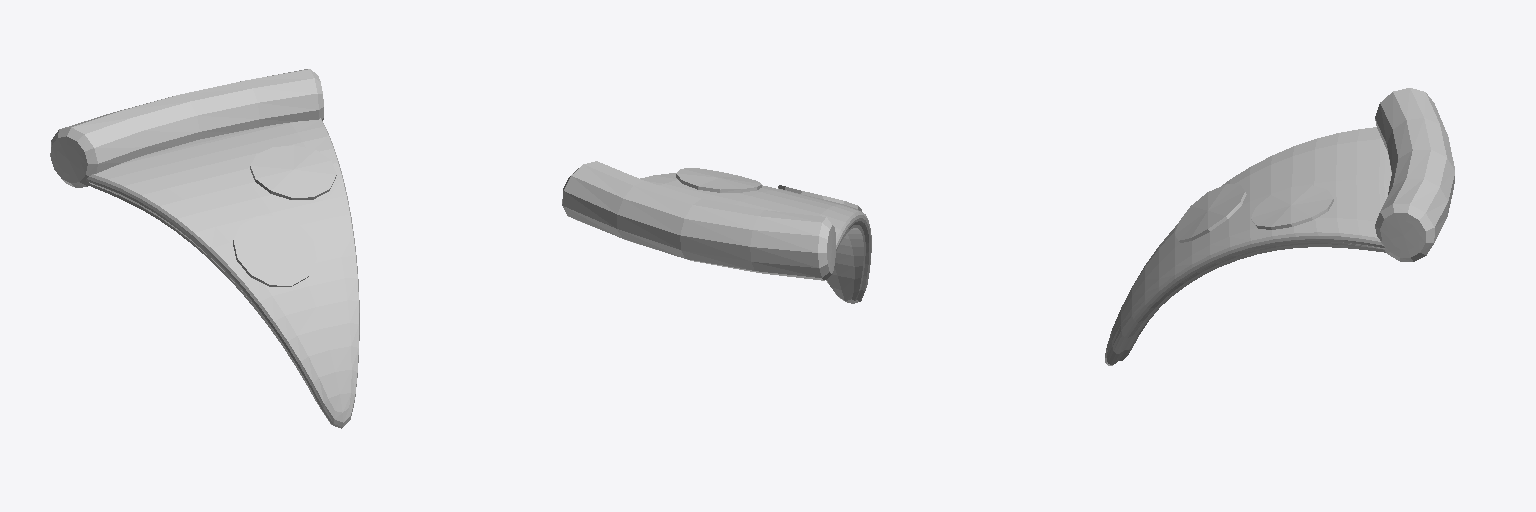
Rendered from pizza.obj.
3 renders of one model, left to right at view 1: azimuth 30°, elevation 25°; view 2: azimuth 150°, elevation 25°; view 3: azimuth 270°, elevation 25°, orthographic.
Visible parts, largest first — view 1: pizza; view 2: pizza; view 3: pizza.
Part boxes in pixels (left/top/right/bottom): pizza: left=50, top=69, right=359, bottom=428; pizza: left=562, top=161, right=871, bottom=303; pizza: left=1105, top=88, right=1454, bottom=365.
Size of the model in its own units: 20.62 by 16.36 by 23.63.